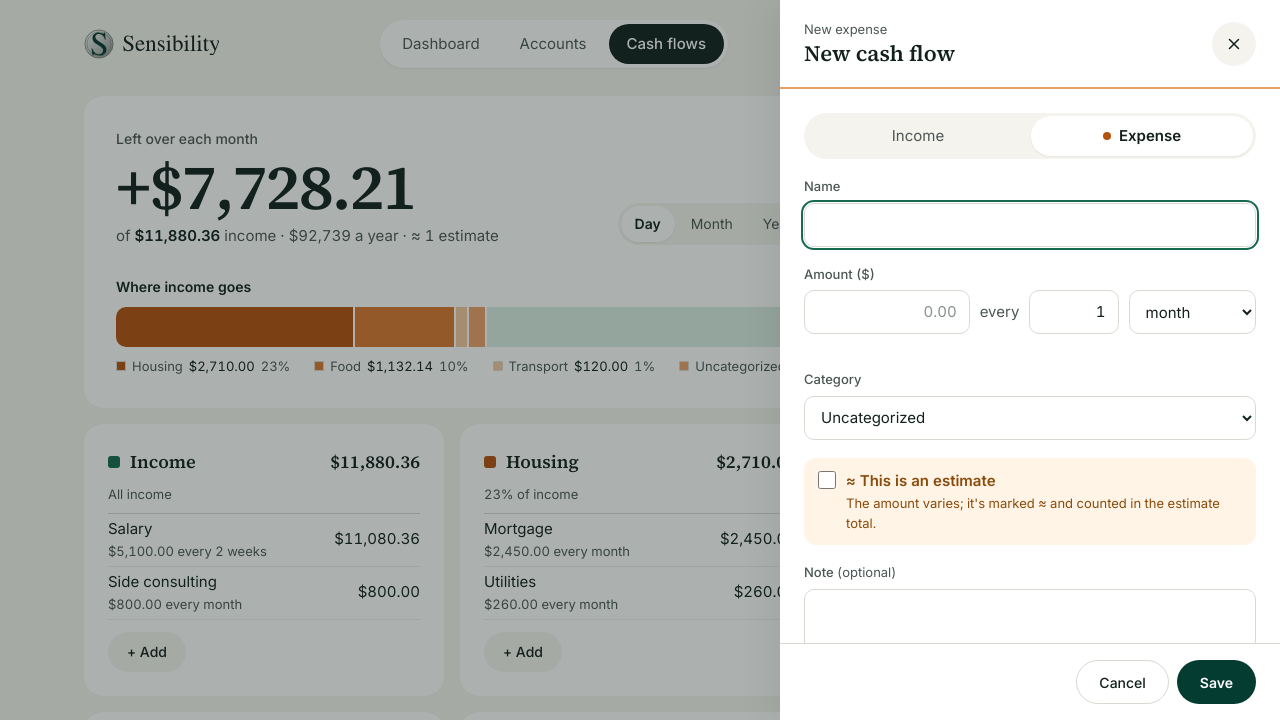
Test case: the cash flow drawer, new › shows the server's Amount cannot be negative; set the direction to expense instead
Expected: the dialog is shown, left=780, top=0, right=1279, bottom=719
Step 1. Type "Gym" into the field labelled "Name" → point(1030, 224), box left=804, top=202, right=1256, bottom=246
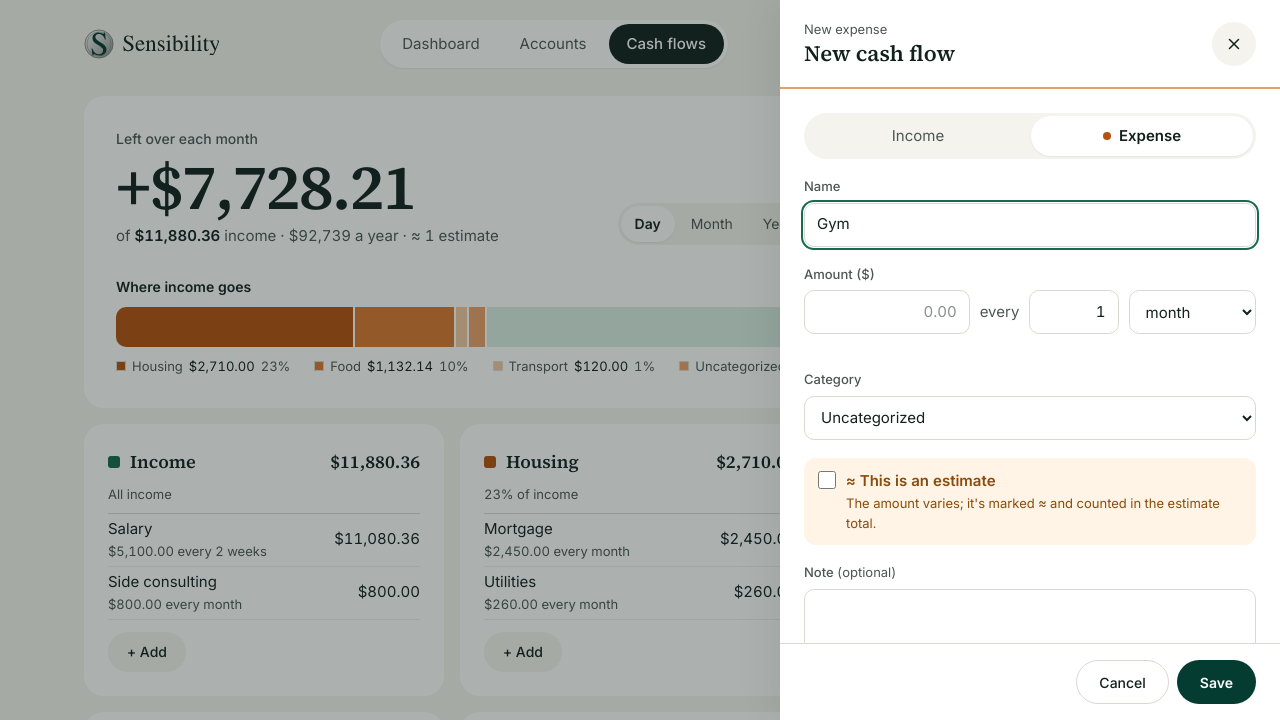
Step 2. Type "-5" into the field labelled "Amount ($)" → point(887, 312), box left=804, top=290, right=970, bottom=334
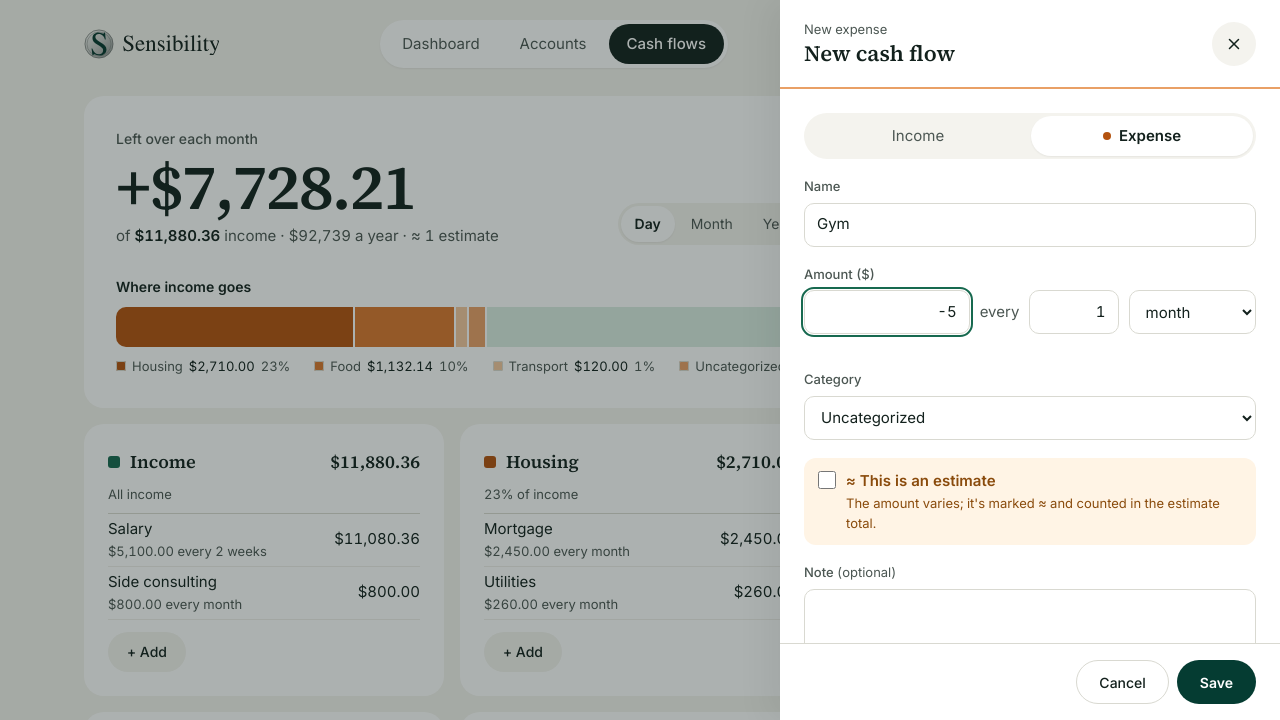
Step 3. Click the button "Save" → point(1216, 682), box left=1177, top=660, right=1256, bottom=704
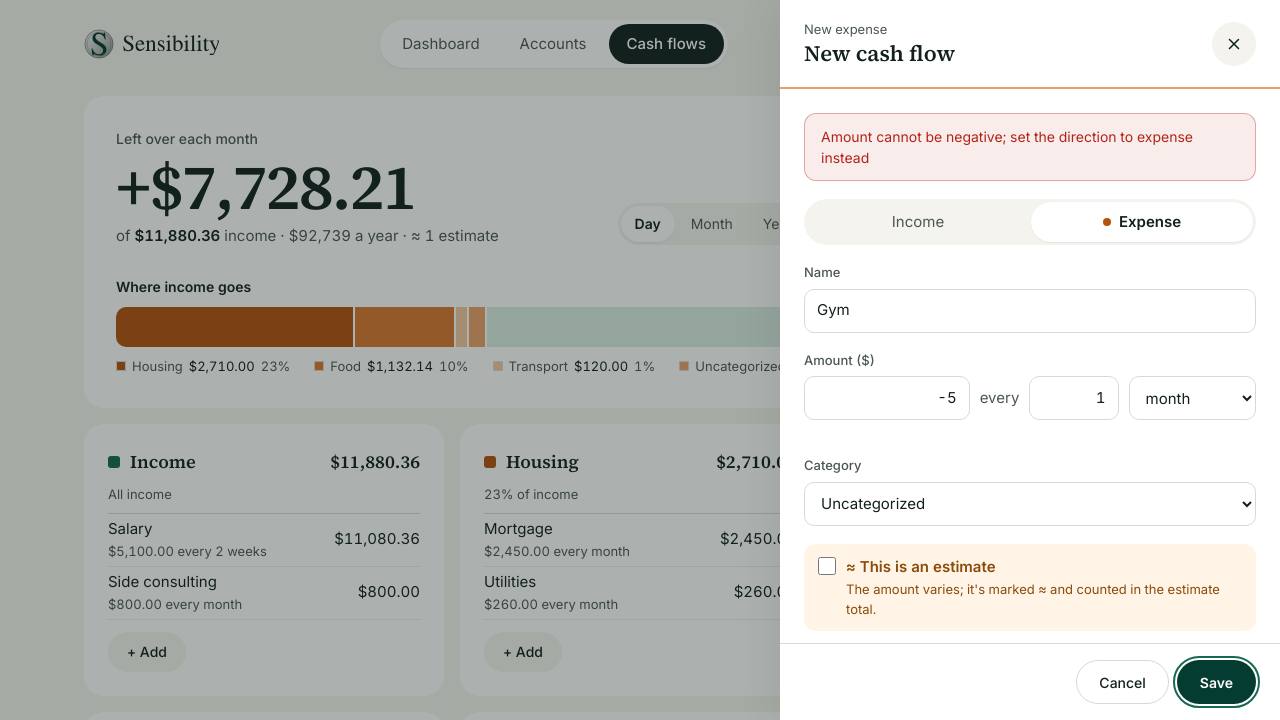
Expected: the message reads "Amount cannot be negative; set the direction to expense instead", left=821, top=128, right=1193, bottom=166
